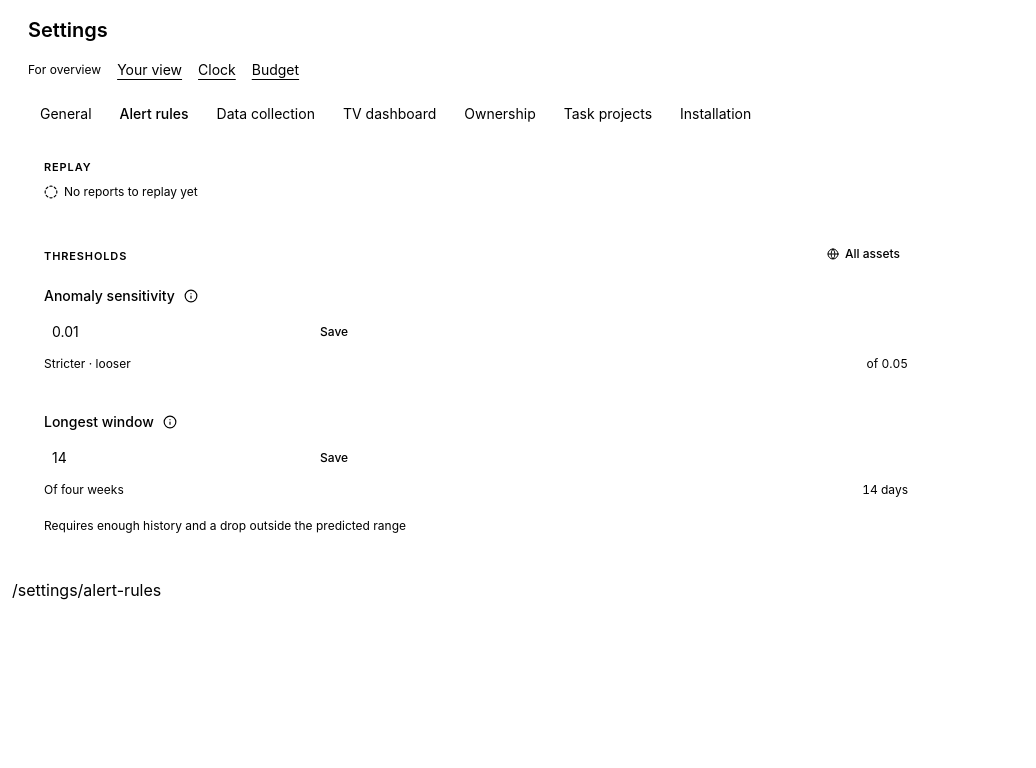
Test: /settings/alert-rules — the replay the fields are edited against › refuses a longest window past four weeks before a Save sends it
The image size is (1036, 768).
Replace the text in the number field labelled "Longest window" with "29" at (172, 458), box left=44, top=444, right=300, bottom=472
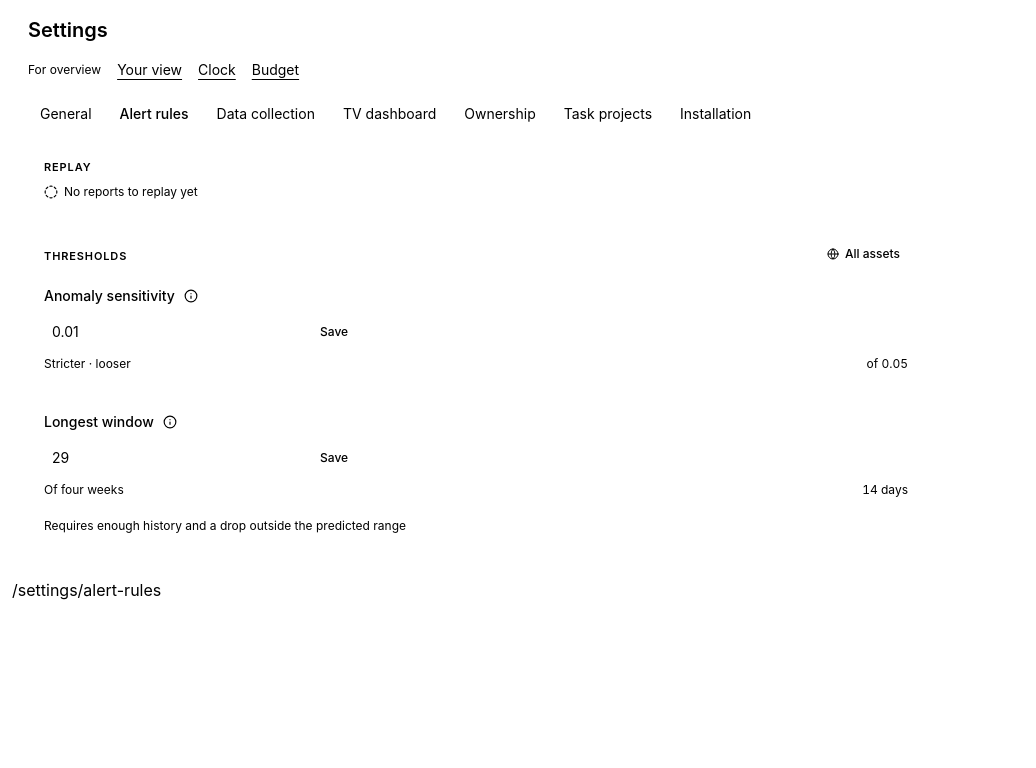
Click the button "Save" below "Longest window" at (334, 458), box left=308, top=442, right=360, bottom=474
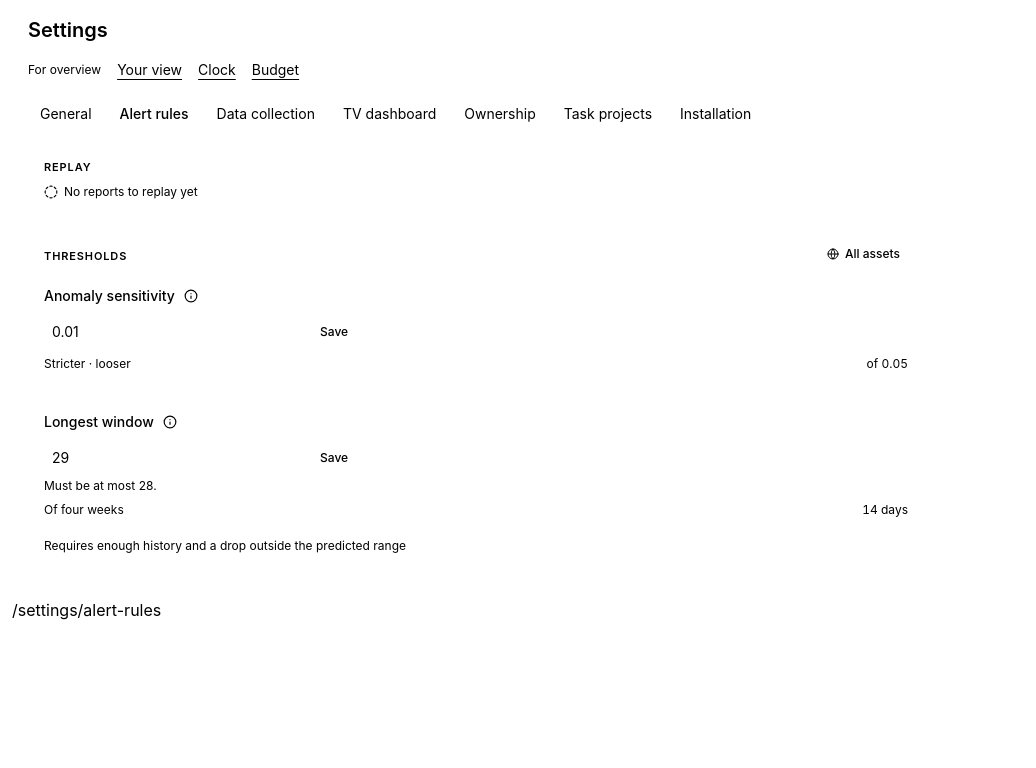
Result: the text "Must be at most 28." is shown at left=44, top=478, right=157, bottom=493
